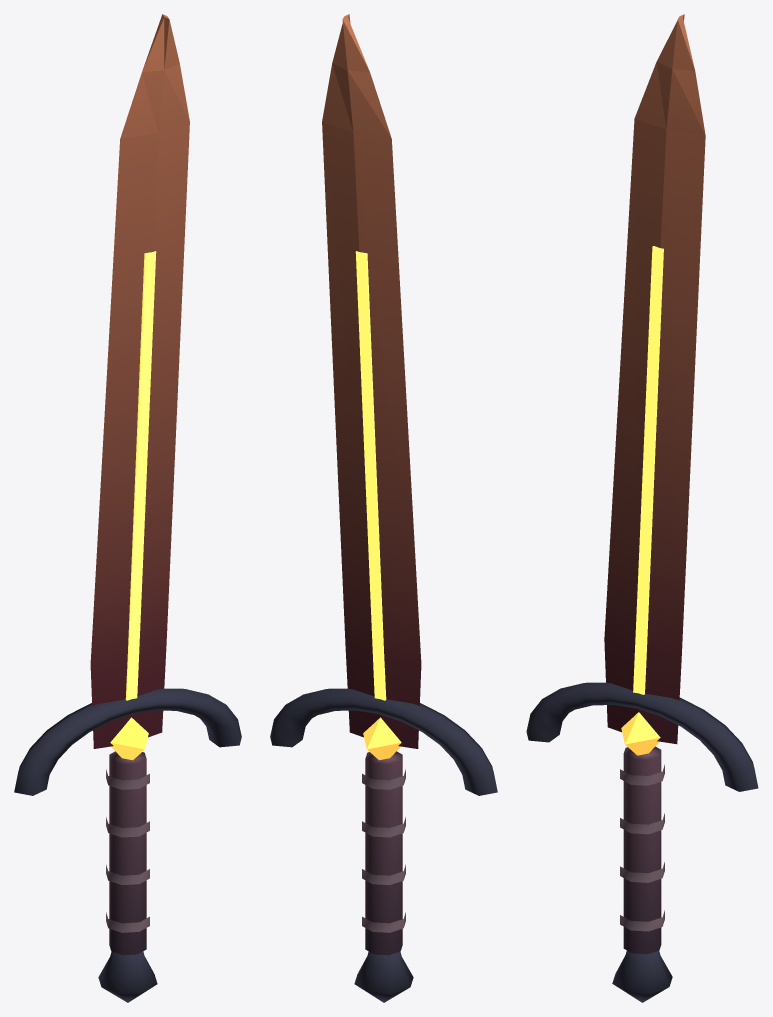
The model's file is sword_ember.glb.
3 views of the same model, side by side, from view 1: azimuth 30°, elevation 25°; view 2: azimuth 150°, elevation 25°; view 3: azimuth 330°, elevation 25° (orthographic).
Parts seen in each view (by area): view 1: sword_ember; view 2: sword_ember; view 3: sword_ember.
Boxes of the visible parts, x1,y1,x2,y2 form: sword_ember: (14, 14, 241, 1002); sword_ember: (270, 14, 497, 1002); sword_ember: (526, 14, 758, 1002).
Bounding box in the file's own units: 0.3 × 1.23 × 0.0784.
